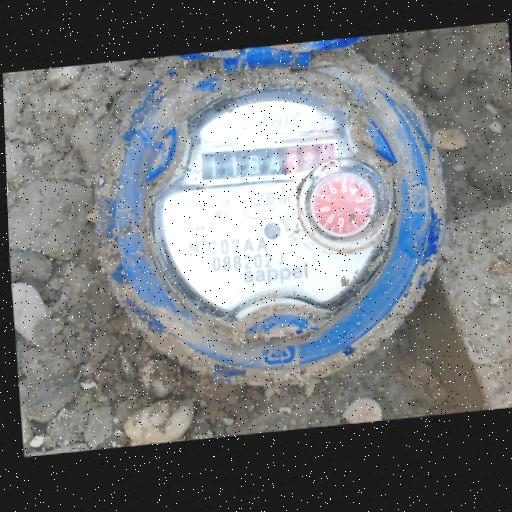1: (200, 151, 225, 181), (222, 149, 245, 179), (318, 141, 335, 165)
2: (300, 143, 321, 172)
3: (285, 145, 302, 175)
4: (263, 146, 285, 175)
8: (242, 148, 265, 178)
border_water_meter_number: (196, 134, 340, 189)
